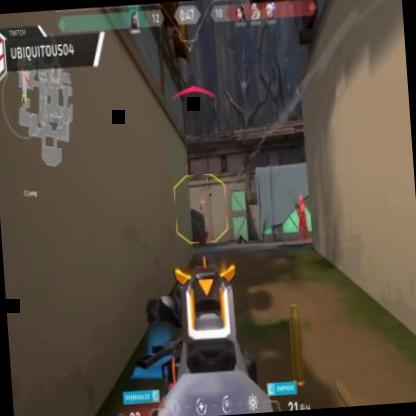enemy: (296, 195, 310, 242), (202, 230, 210, 244)
enemy_head: (298, 194, 304, 203)
